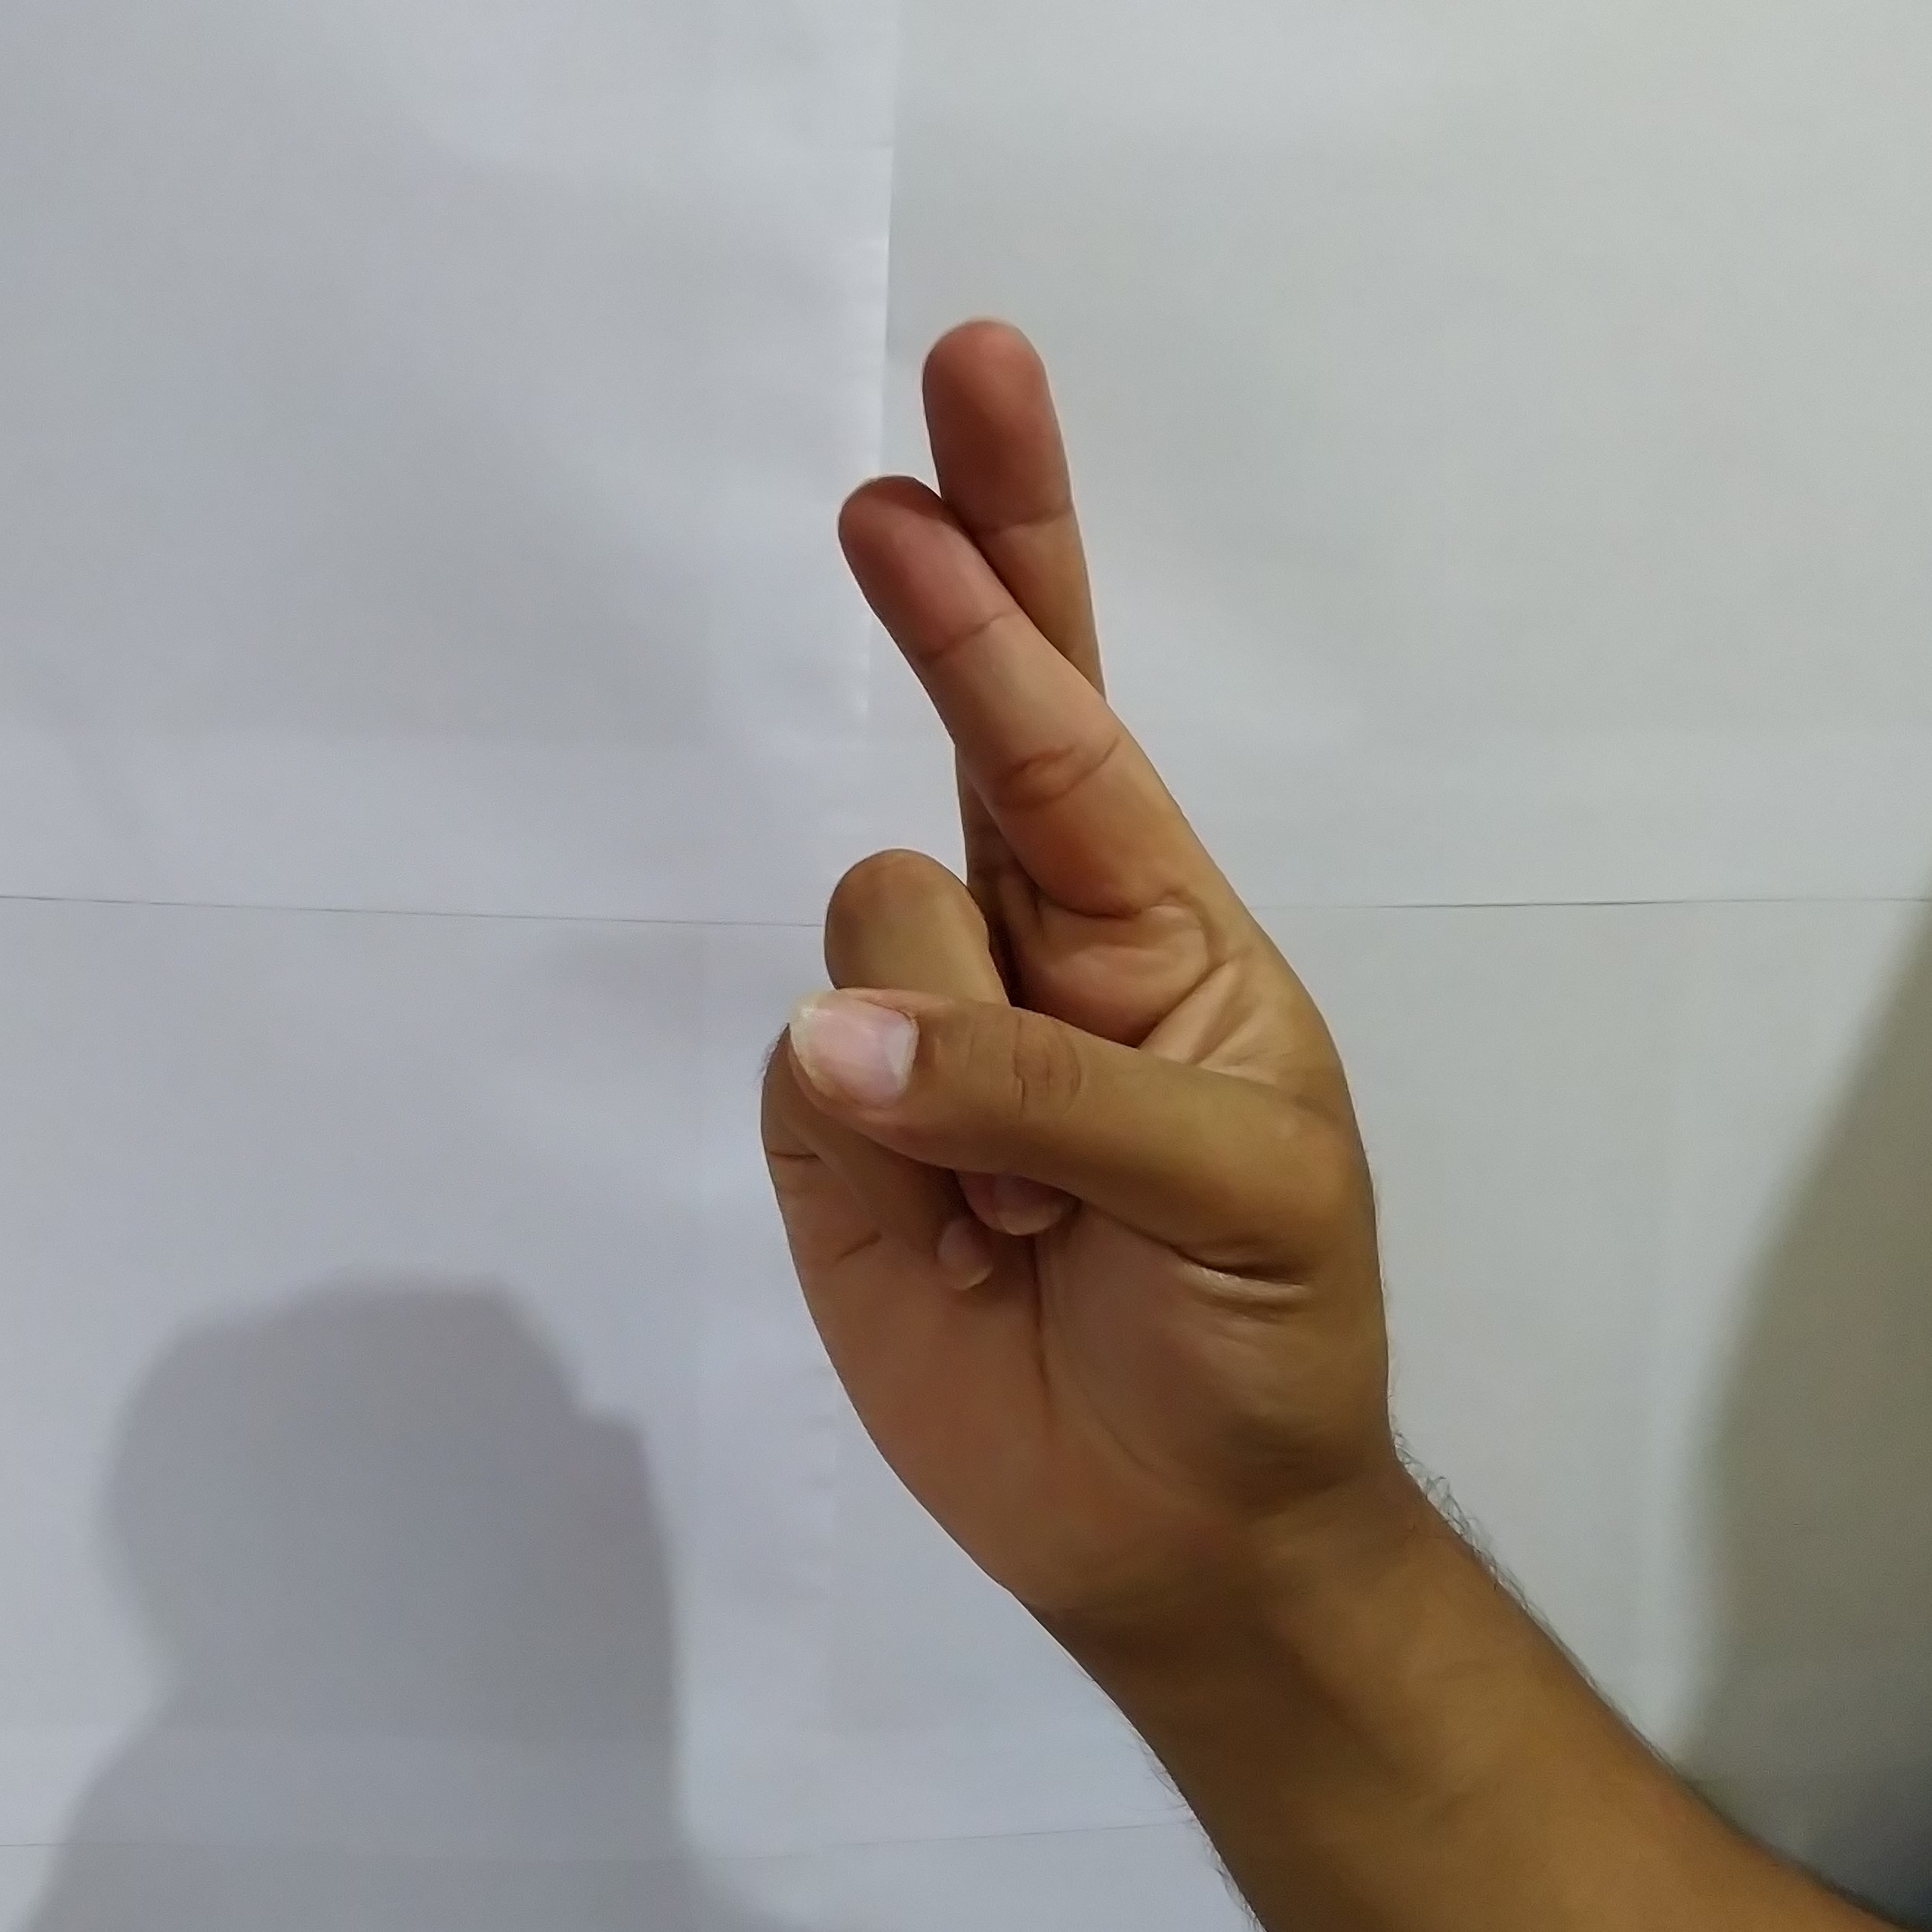R: (717, 285, 1465, 1560)
